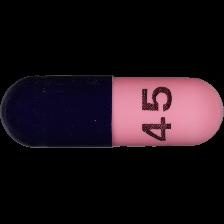51655-156: (0, 0, 224, 224)
